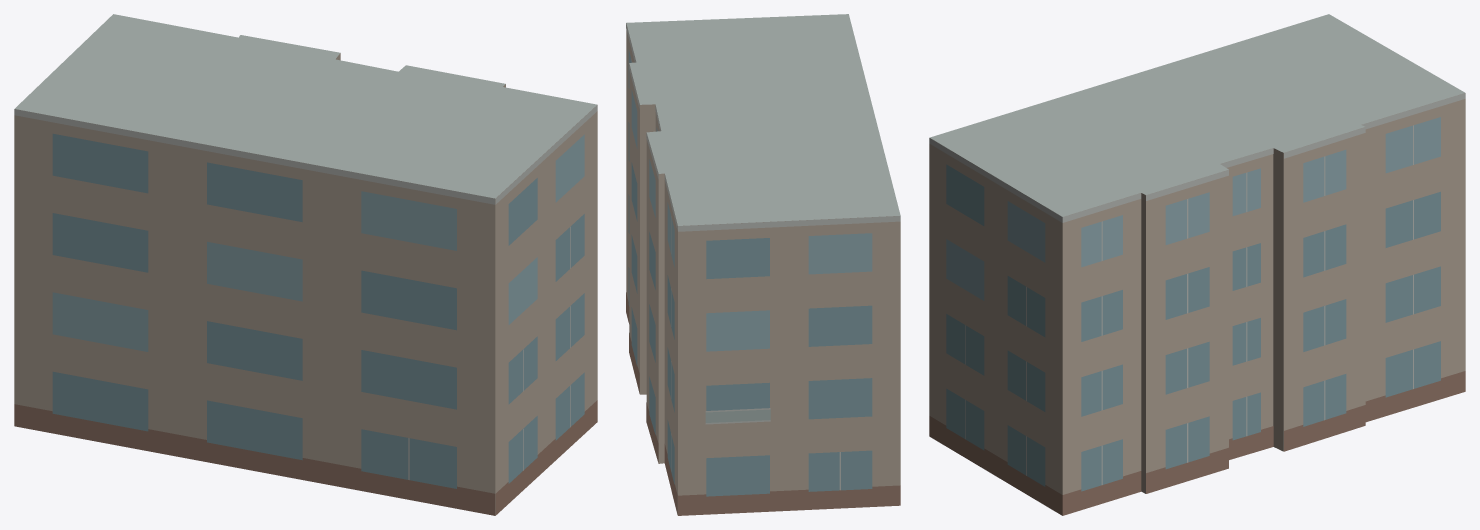
The model's file is survey-upis-32809120.glb.
The picture shows the model from 3 angles, left to right: view 1: azimuth 30°, elevation 25°; view 2: azimuth 150°, elevation 25°; view 3: azimuth 270°, elevation 25°; orthographic projection. The views are drawn at different scales.
Visible parts, largest first — view 1: survey-upis-32809120.tmp; view 2: survey-upis-32809120.tmp; view 3: survey-upis-32809120.tmp.
Boxes of the visible parts, <box> form: survey-upis-32809120.tmp: <box>14,14,597,515</box>; survey-upis-32809120.tmp: <box>626,14,900,515</box>; survey-upis-32809120.tmp: <box>929,14,1465,515</box>.
Size of the model in its own units: 17.8 by 12.21 by 19.86.
